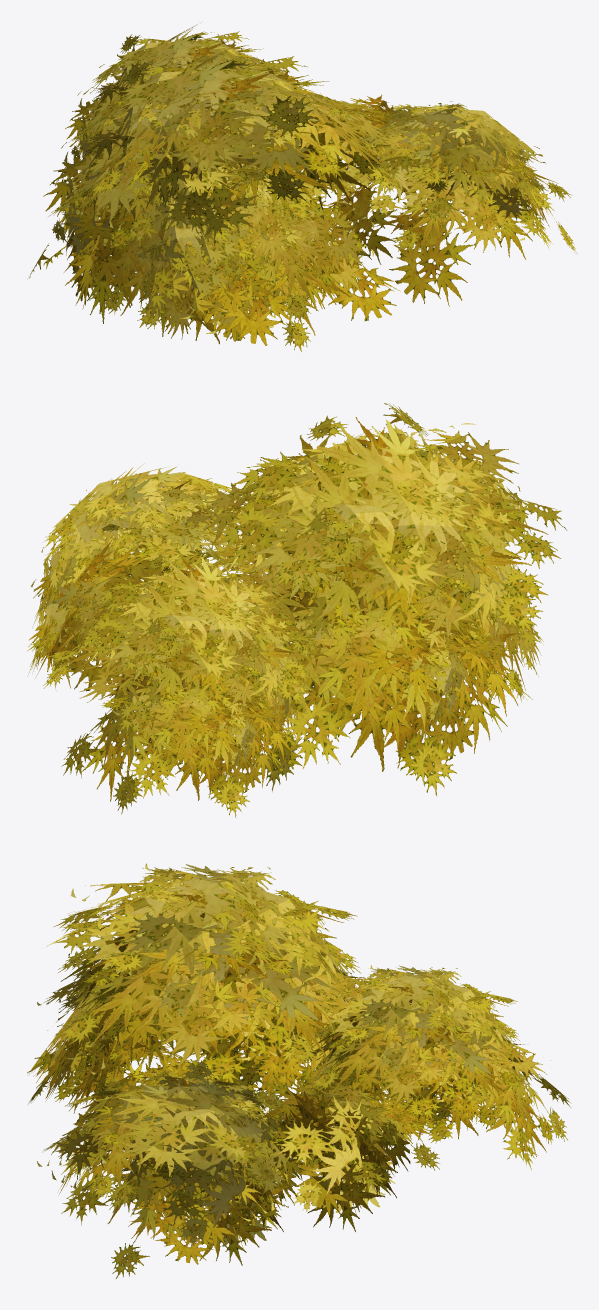
The model's file is Area_11_6.fbx.
3 views of the same model, one above another, from view 1: azimuth 30°, elevation 25°; view 2: azimuth 150°, elevation 25°; view 3: azimuth 270°, elevation 25° (orthographic). The views are drawn at different scales.
Visible parts, largest first — view 1: Area_11_6; view 2: Area_11_6; view 3: Area_11_6.
Part boxes in pixels (left/top/right/bottom): Area_11_6: left=29, top=24, right=577, bottom=351; Area_11_6: left=27, top=403, right=567, bottom=817; Area_11_6: left=27, top=863, right=571, bottom=1278.
Size of the model in its own units: 607 by 325 by 574.
Materials: 1 (1 with a texture image).
